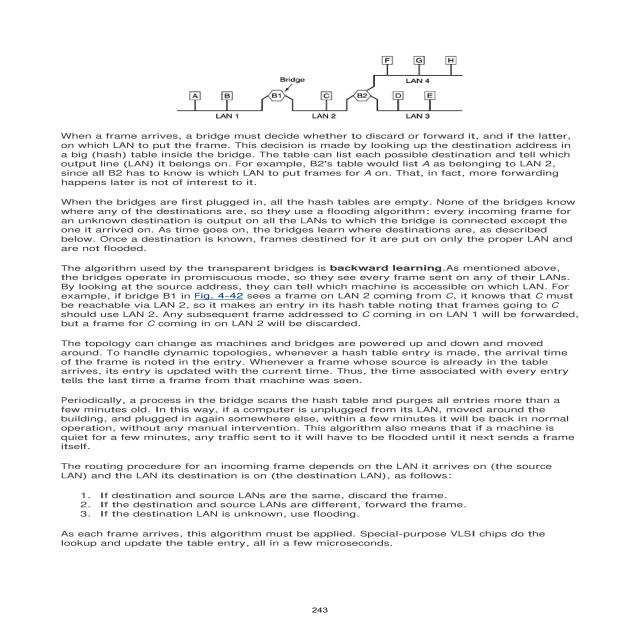diagram: (38, 16, 576, 190), (125, 53, 161, 72)
